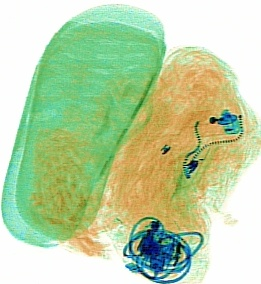lighter: (173, 112, 244, 140)
